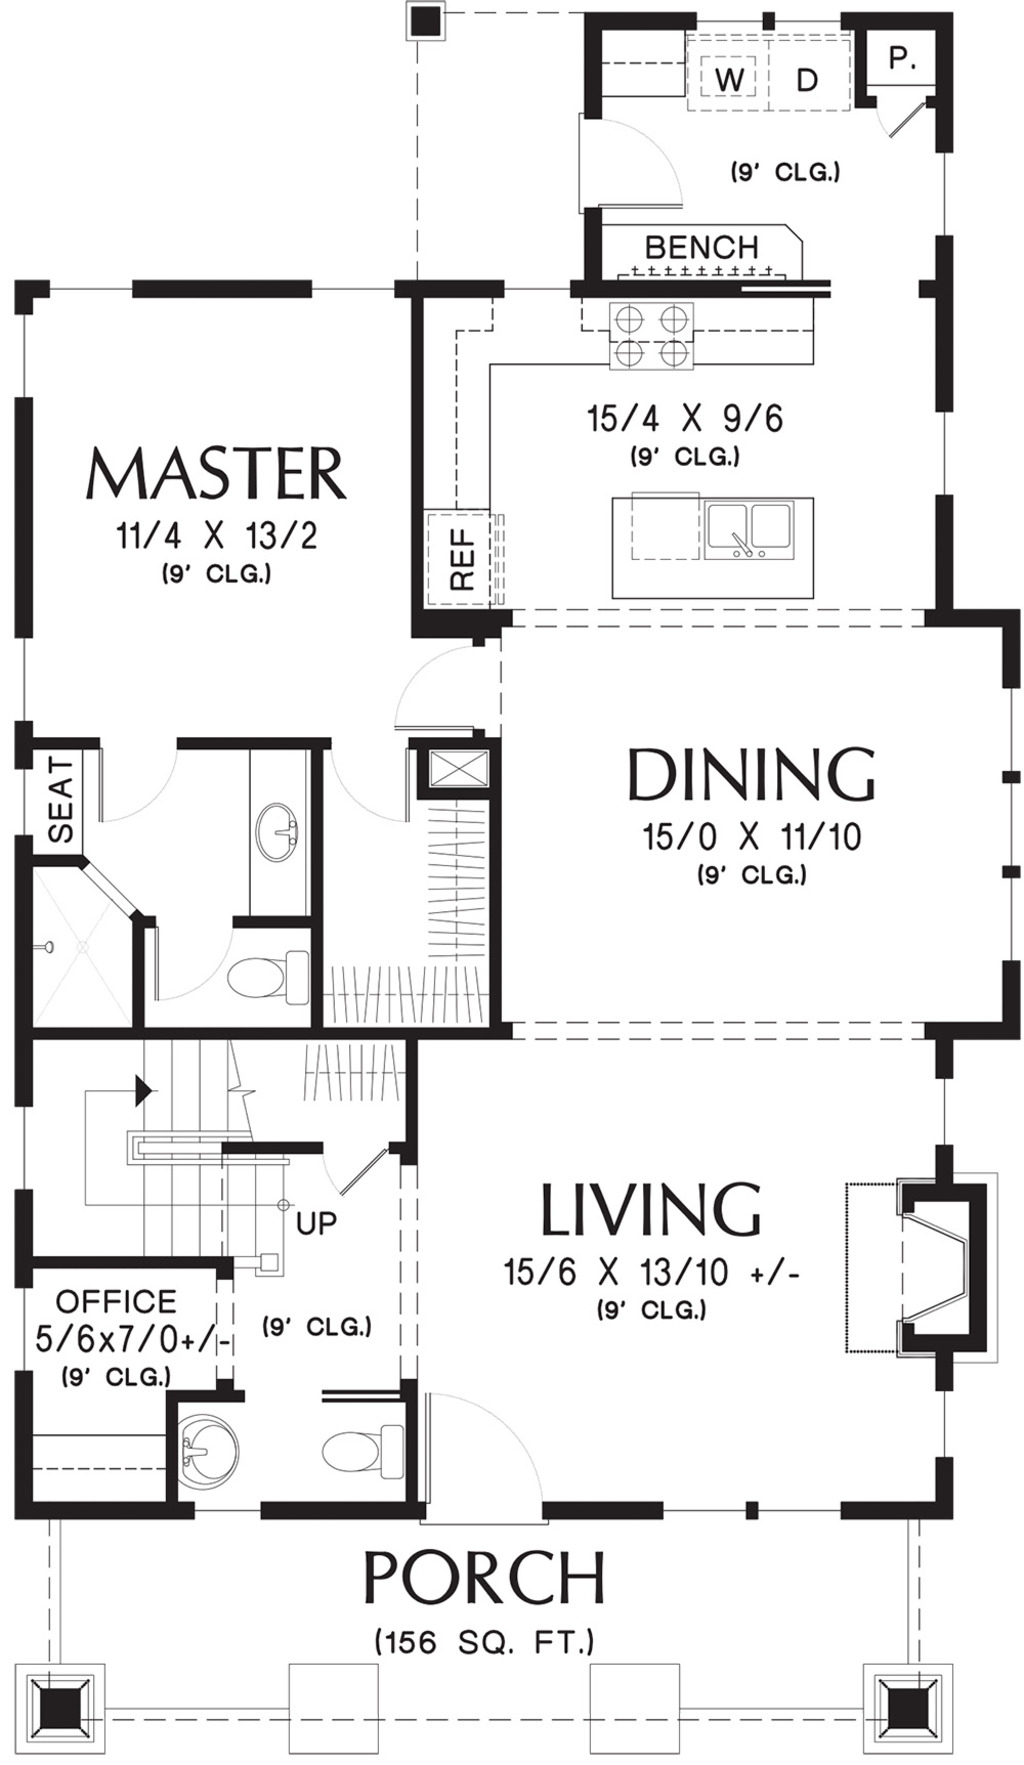door: (421, 1390, 546, 1529), (386, 639, 503, 728), (571, 111, 674, 208), (132, 914, 224, 1006), (101, 736, 176, 834), (335, 739, 412, 817), (321, 1142, 385, 1197), (874, 95, 929, 139)
kitchen_bar: (592, 486, 818, 606)
large_sink: (308, 1404, 407, 1500), (218, 936, 307, 1021)
small_sink: (251, 781, 310, 897), (176, 1403, 235, 1500)
stairs: (87, 1030, 310, 1262)
